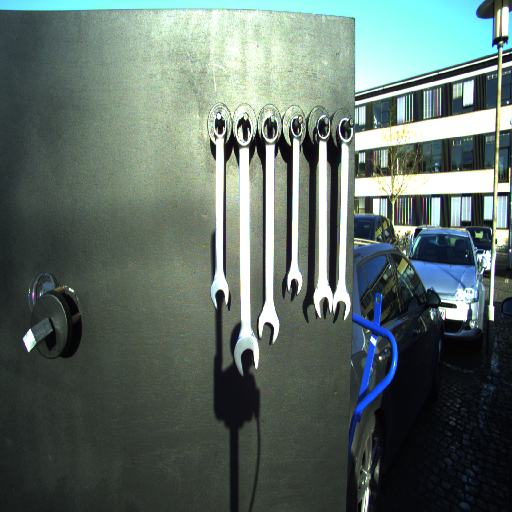bottom: (232, 337, 261, 377), (255, 309, 282, 345), (208, 278, 233, 311), (312, 285, 333, 320), (333, 290, 351, 323), (284, 269, 303, 295)
top: (233, 111, 257, 148), (260, 114, 281, 145), (312, 113, 335, 140), (337, 116, 356, 146), (211, 110, 229, 141), (288, 114, 307, 140)
